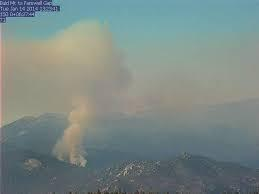yanwu: (1, 19, 129, 168)
